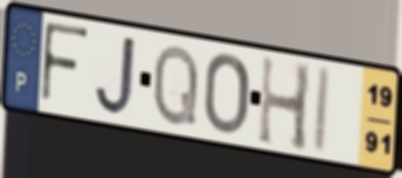F: (39, 18, 92, 108)
H: (256, 52, 315, 156)
I: (309, 63, 334, 158)
J: (92, 33, 139, 118)
O: (202, 51, 252, 137)
Q: (150, 41, 201, 129)
